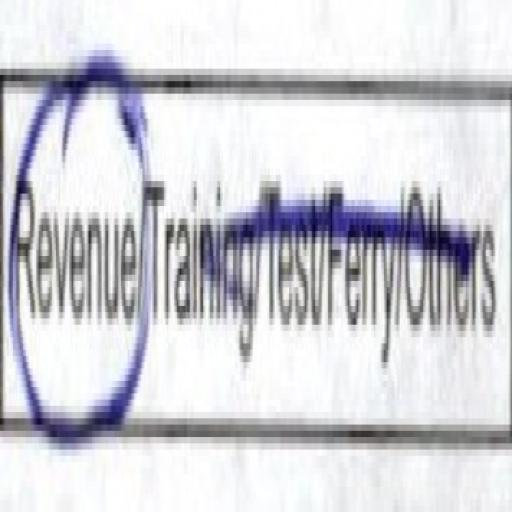check: (2, 52, 152, 428)
